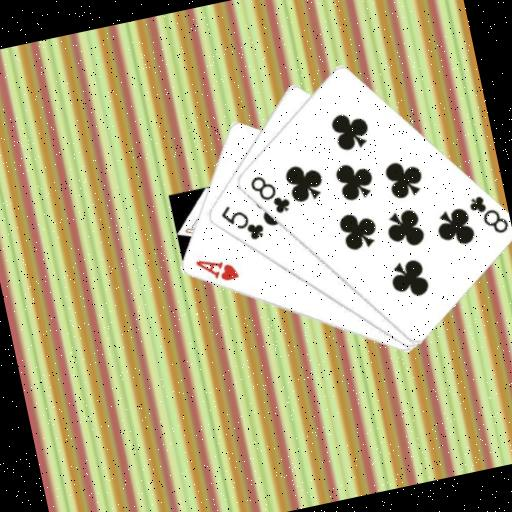5C: (215, 196, 267, 248)
8C: (245, 167, 294, 220), (463, 188, 512, 241)
AH: (190, 248, 241, 289)
